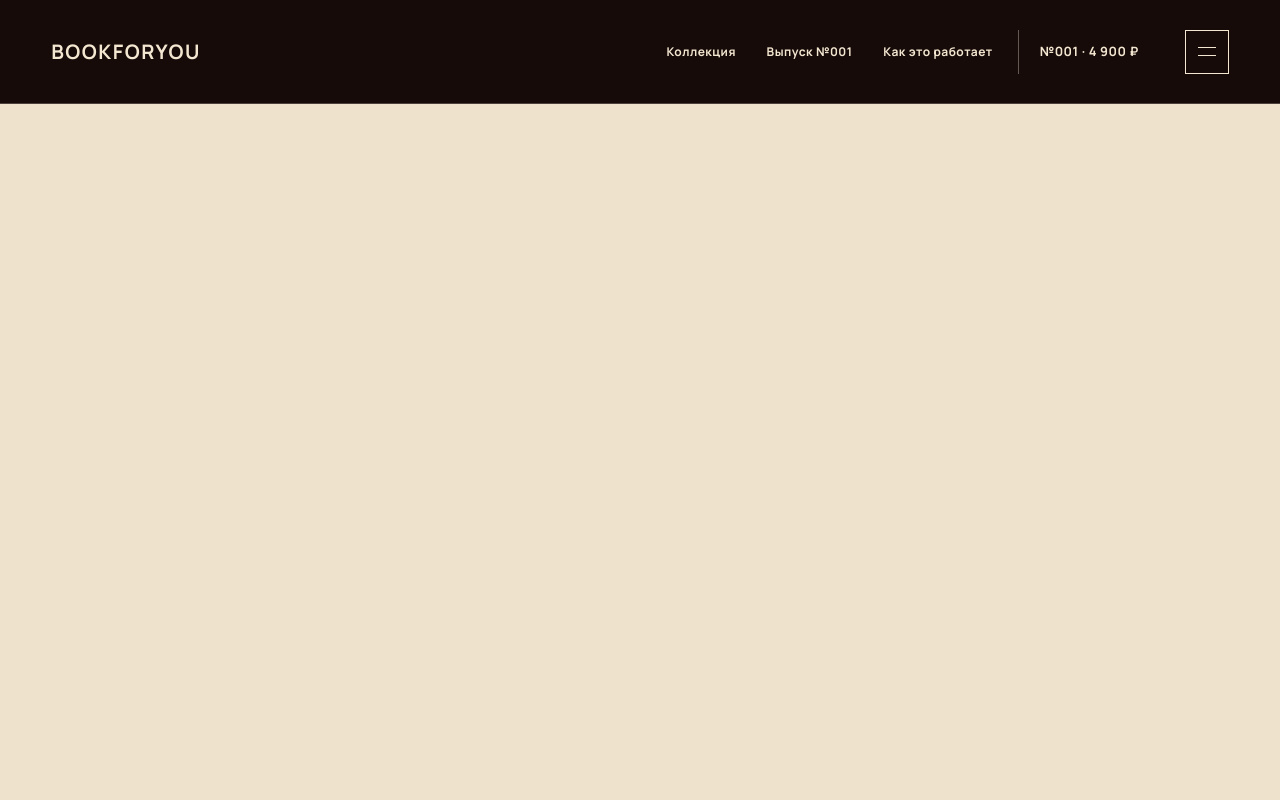
Scenario: Header › closes after navigation to a new route
This screenshot has width=1280, height=800.
Click the button named "Меню" at (1207, 52), box [1185, 30, 1229, 74]
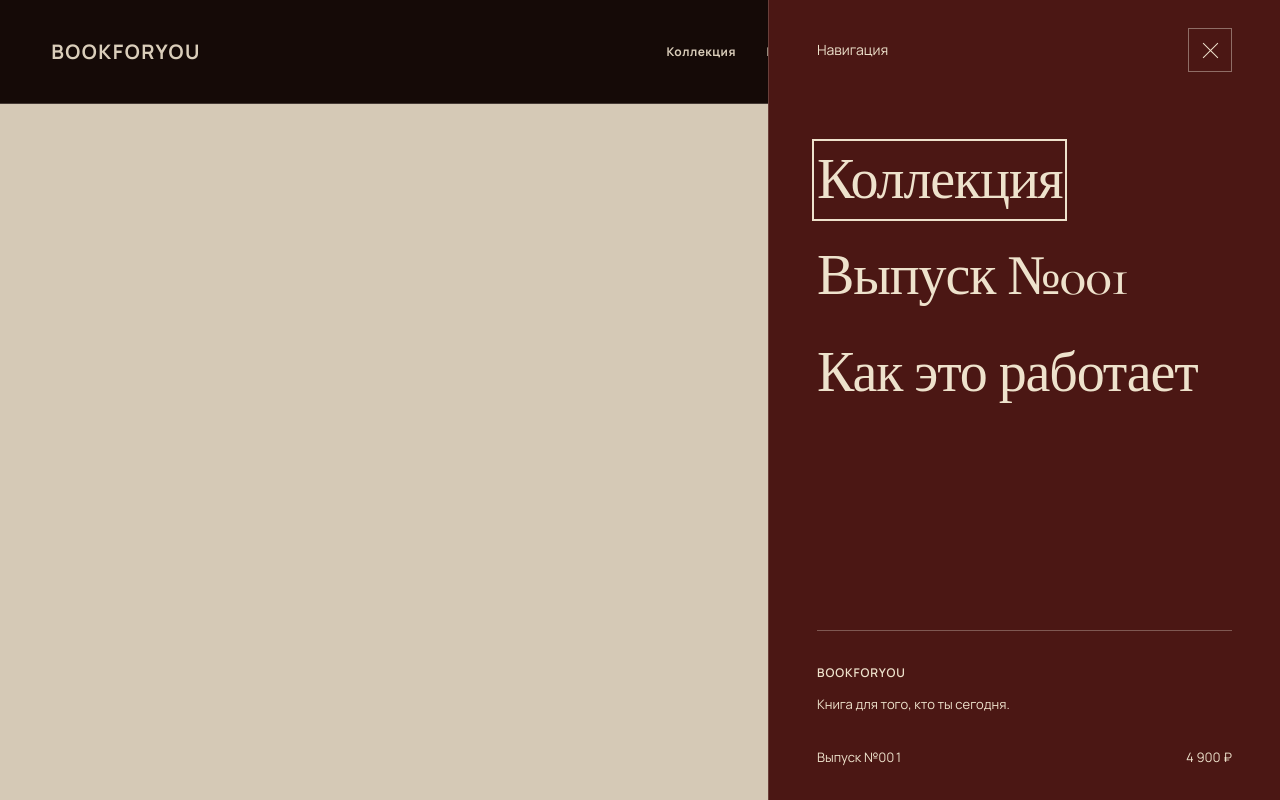
Click the link to "/collection" at (940, 180), box [817, 144, 1062, 216]
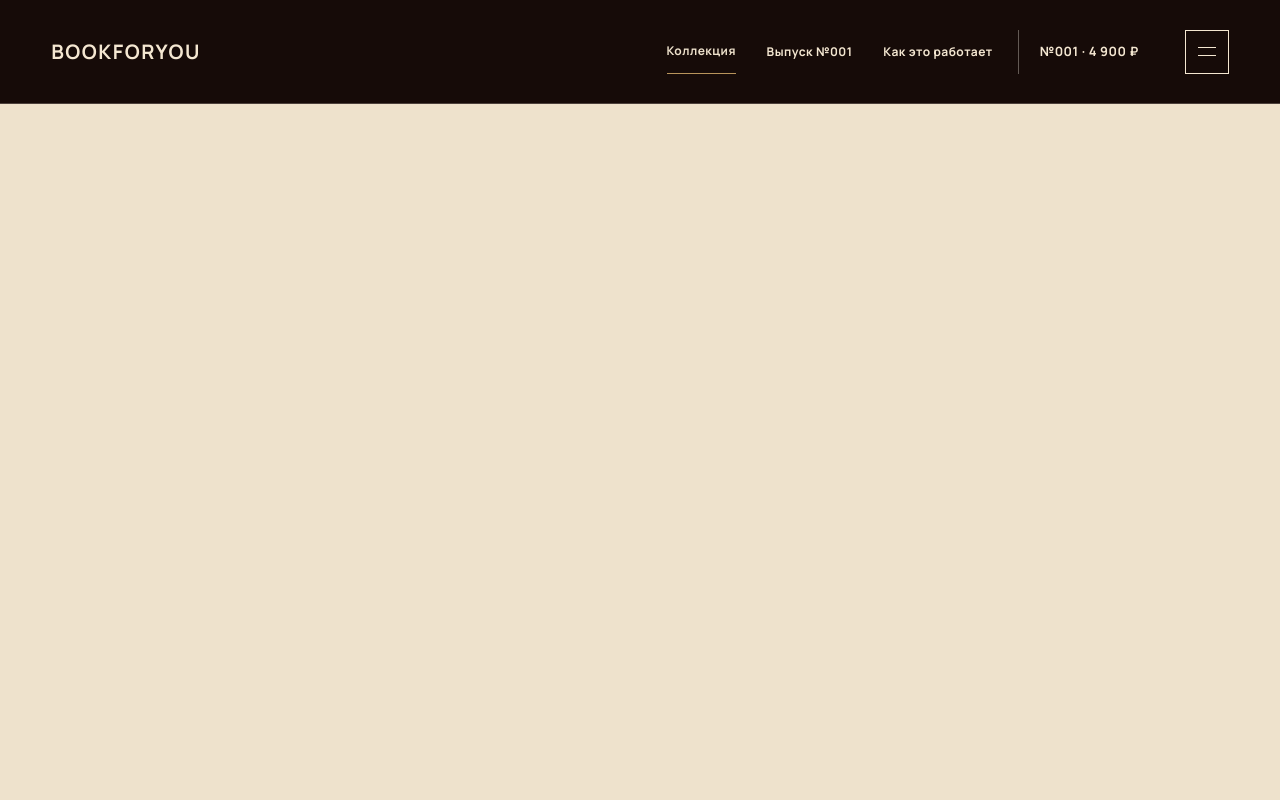
Result: the button named "Меню" is collapsed at [1185, 30, 1229, 74]
Result: the dialog is gone
